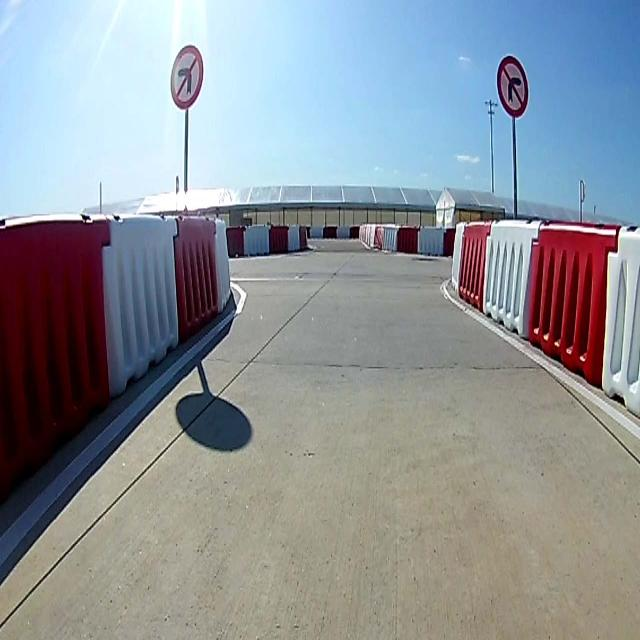sagadonulmez: (494, 53, 530, 121)
soladonulmez: (170, 46, 202, 106)
